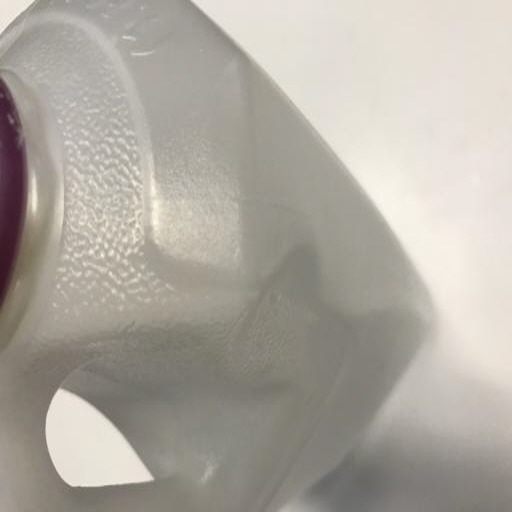Plastic_1: (3, 1, 426, 512)
